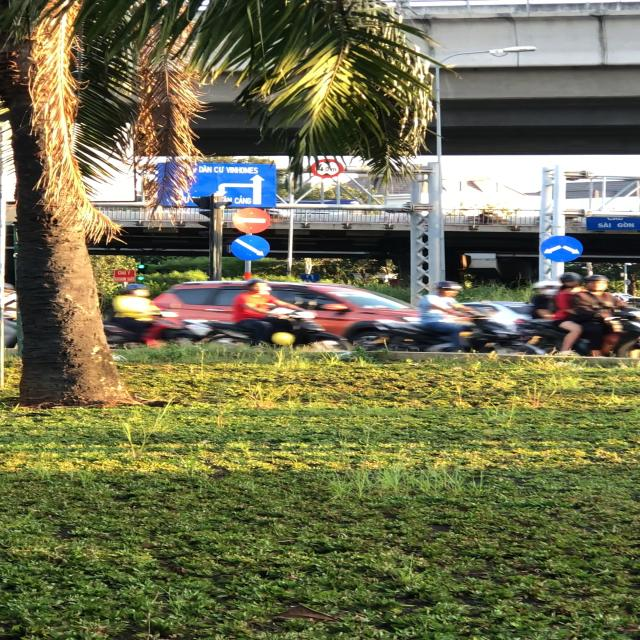Bien bao cam di nguoc chieu: (227, 206, 281, 235)
Bien bao han che chieu cao: (311, 156, 344, 178)
Bien bao huong phai di vong chuong ngai vat: (535, 233, 589, 264), (226, 233, 274, 264)
